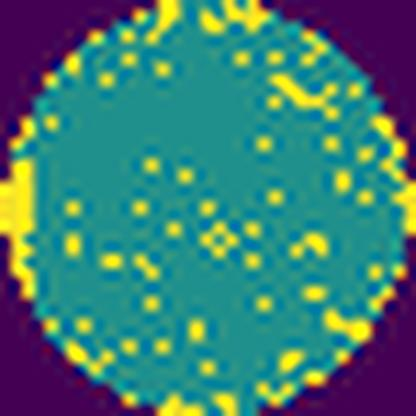Edge-Loc: (0, 155, 37, 302), (138, 0, 180, 51), (147, 387, 213, 416), (389, 179, 416, 245)
